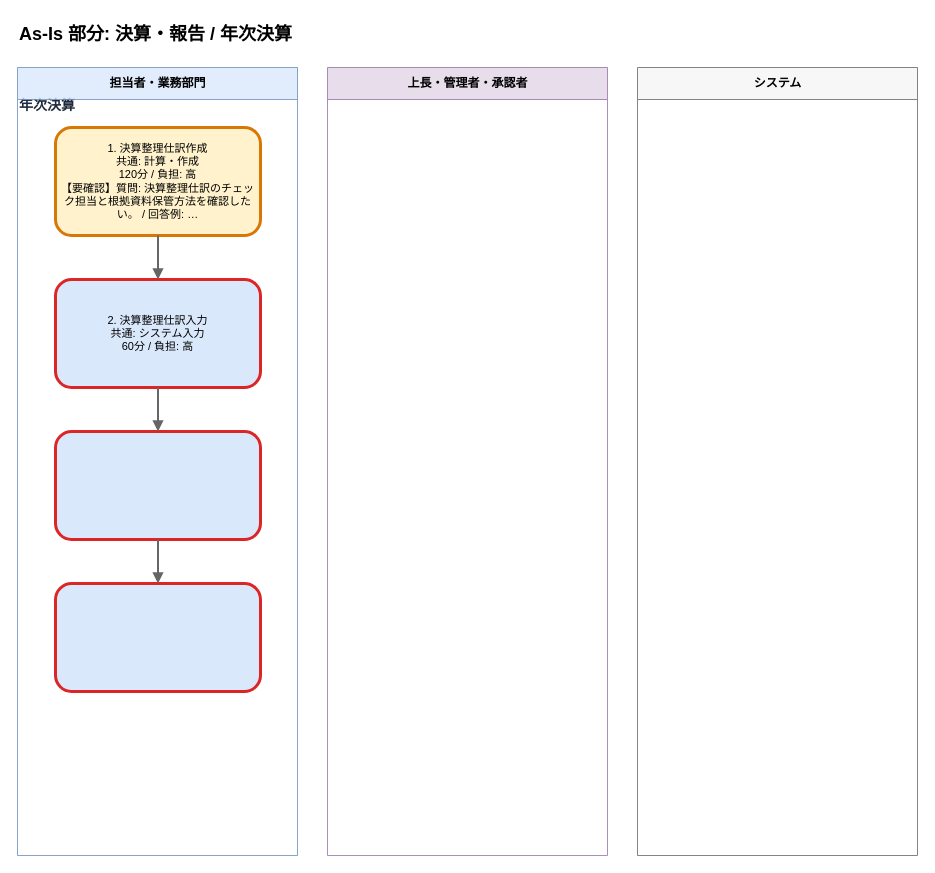
The diagram is 935 pixels wide and 873 high, and some of its shapes have lost their labels. The shapes that lost their labels are listed below. From the top down, each one's centre as x and y in pixels, then its label:
the point at 158,485: 3. 計算書類作成 共通: 計算・作成 180分 / 負担: 高
the point at 158,637: 4. 申告・納税 共通: 報告・提出 90分 / 負担: 高
